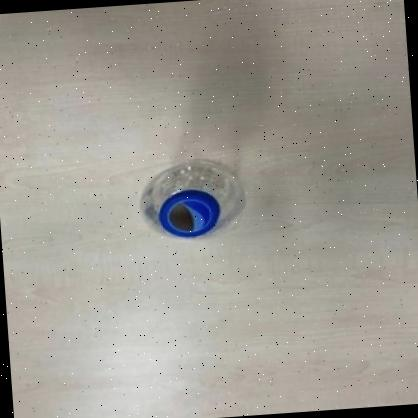bottle: (130, 142, 255, 253)
cap: (154, 187, 222, 240)
